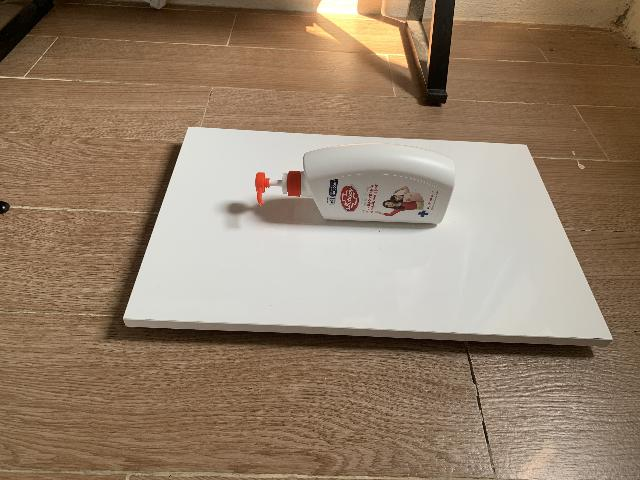life-buoy: (255, 143, 455, 224)
